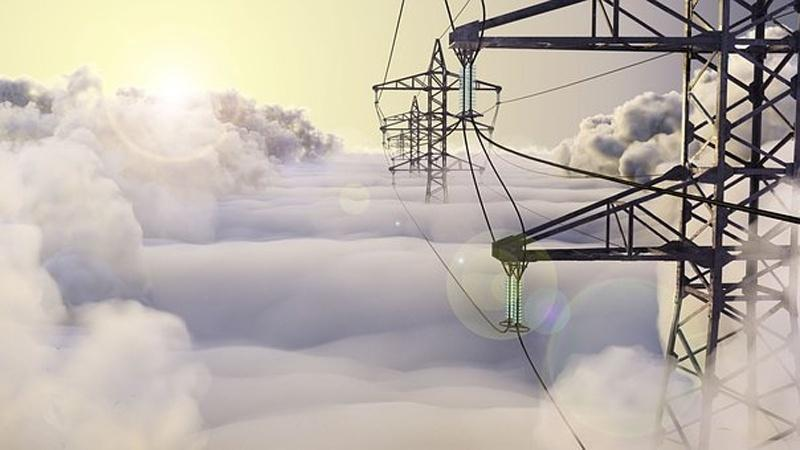power_tower: (447, 0, 800, 450), (371, 38, 503, 202), (380, 94, 446, 187), (385, 128, 418, 160)
